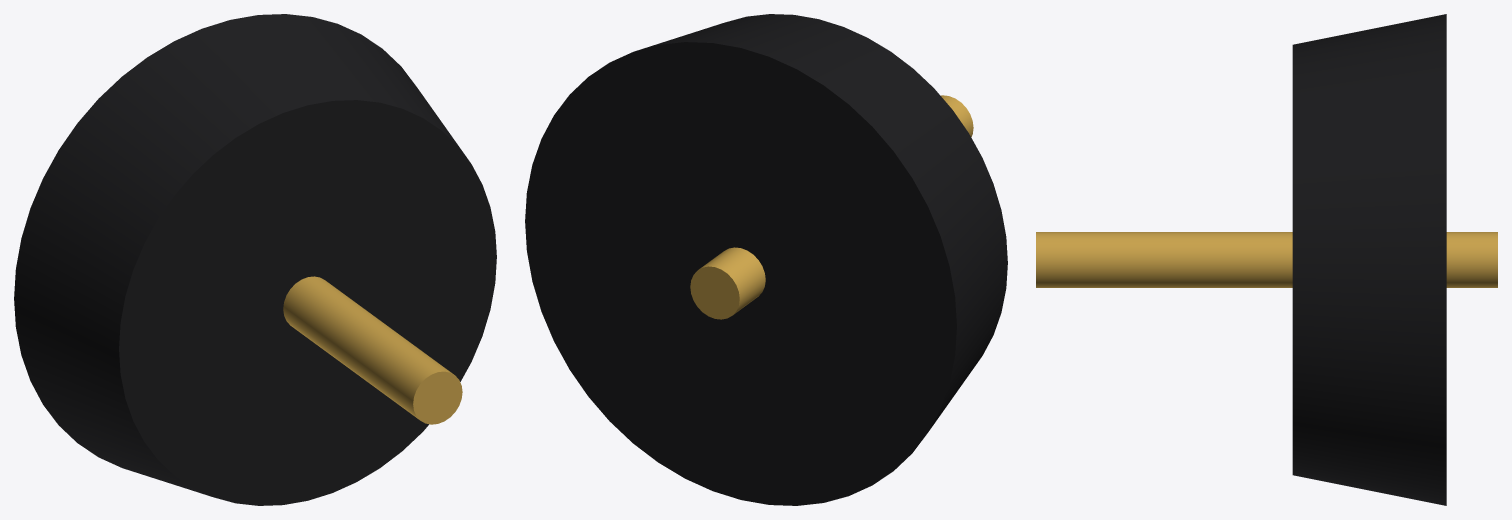
File: pin-back.glb
The picture shows the model from 3 angles, left to right: view 1: azimuth 30°, elevation 25°; view 2: azimuth 150°, elevation 25°; view 3: azimuth 270°, elevation 25°; orthographic projection.
Parts seen in each view (by area): view 1: rubber_clutch, pin_post; view 2: rubber_clutch, pin_post; view 3: rubber_clutch, pin_post.
Part boxes in pixels (x1=…): rubber_clutch: x1=14, y1=14, x2=496, y2=505; pin_post: x1=283, y1=276, x2=462, y2=424; rubber_clutch: x1=525, y1=14, x2=1007, y2=505; pin_post: x1=690, y1=95, x2=973, y2=319; rubber_clutch: x1=1292, y1=14, x2=1446, y2=505; pin_post: x1=1036, y1=232, x2=1497, y2=287.
Bounding box in the file's own units: 0.0096 × 0.0096 × 0.009.
